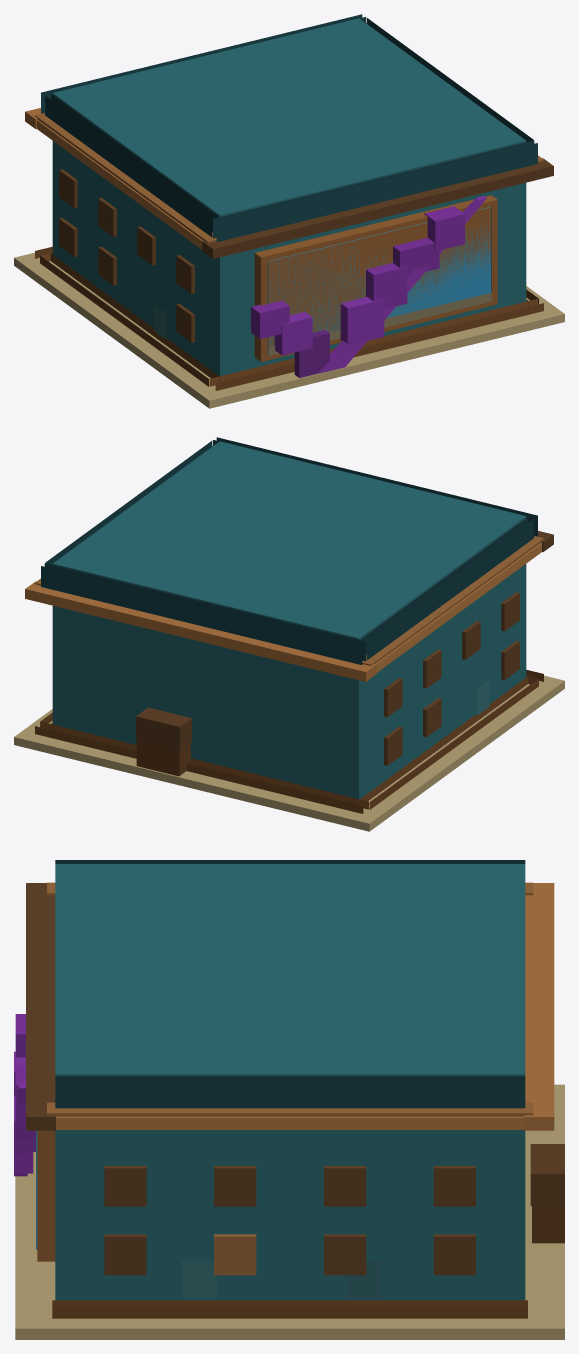
Rendered from SubwayOctopusSil.fbx.
The picture shows the model from 3 angles, top to bottom: view 1: azimuth 30°, elevation 25°; view 2: azimuth 150°, elevation 25°; view 3: azimuth 270°, elevation 25°; orthographic projection. The views are drawn at different scales.
Parts seen in each view (by area): view 1: OC_S_All; view 2: OC_S_All; view 3: OC_S_All.
Part boxes in pixels (<box>): OC_S_All: <box>14,14,564,408</box>; OC_S_All: <box>14,437,564,831</box>; OC_S_All: <box>14,860,564,1339</box>.
Bounding box in the file's own units: 42.04 × 20 × 40.14.
